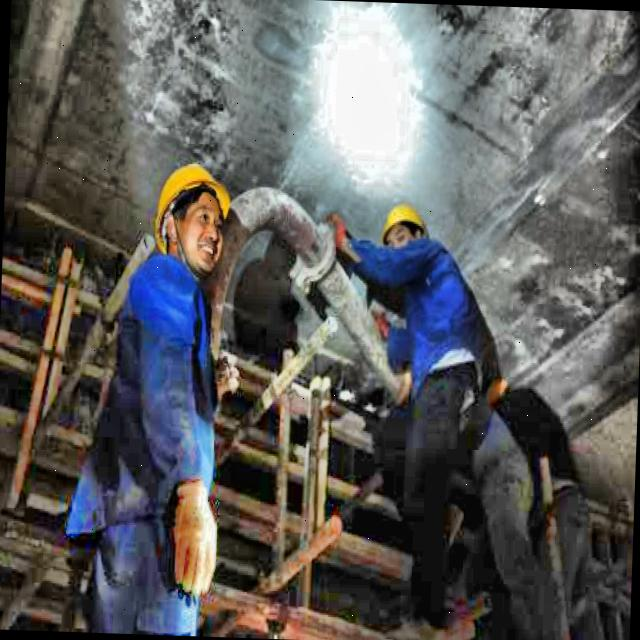helmet: (150, 155, 238, 278), (374, 198, 430, 272)
